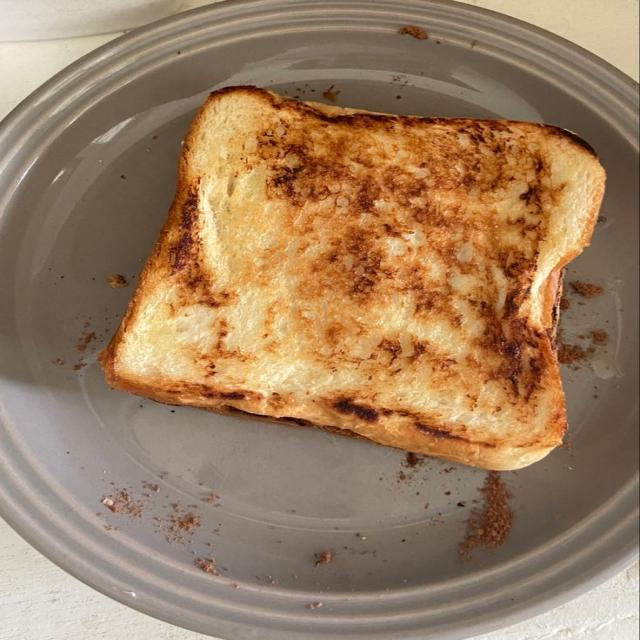toast bread: (100, 87, 605, 469)
